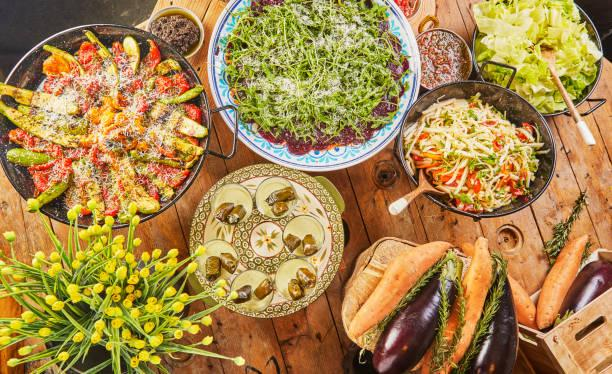Braised Crucian Carp: (3, 23, 212, 230), (209, 1, 414, 173), (185, 162, 340, 318), (393, 78, 556, 218), (472, 1, 603, 118)
